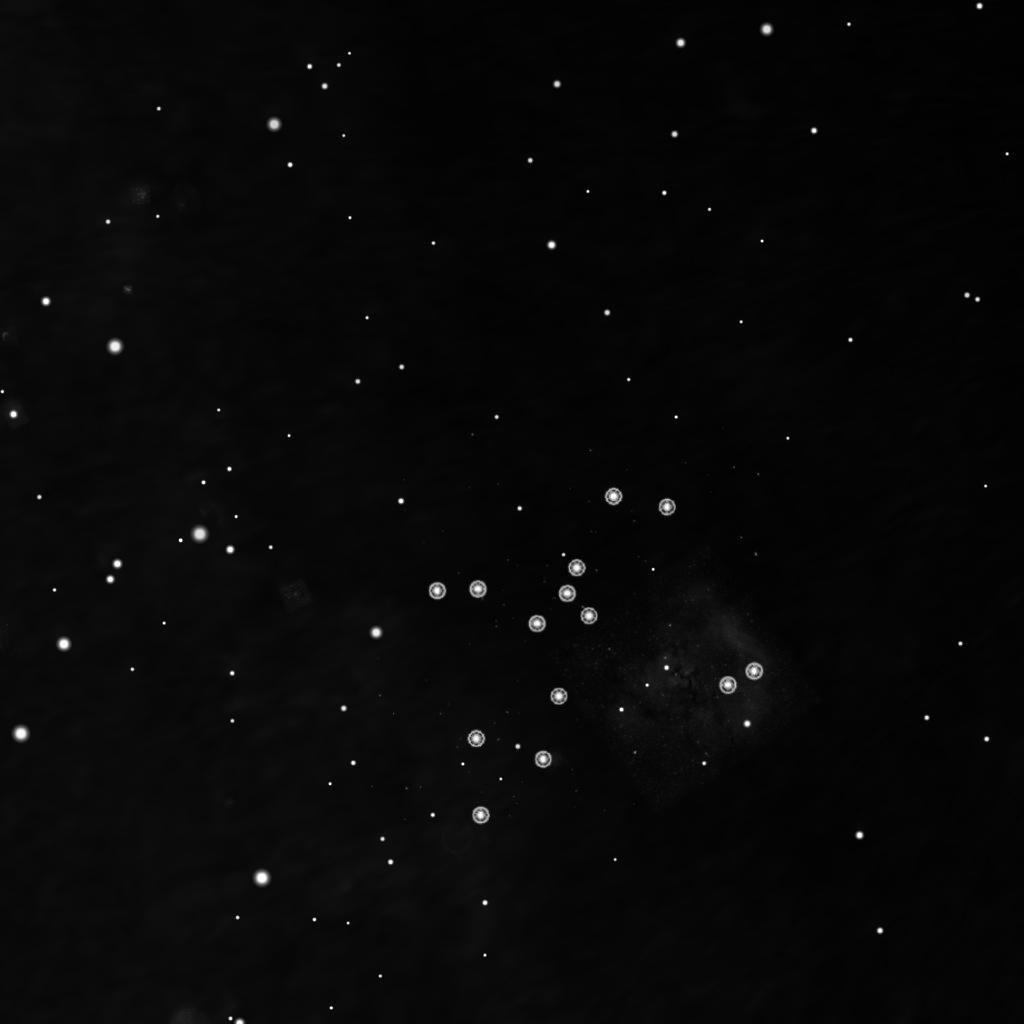canis_major: (520, 483, 681, 641)
